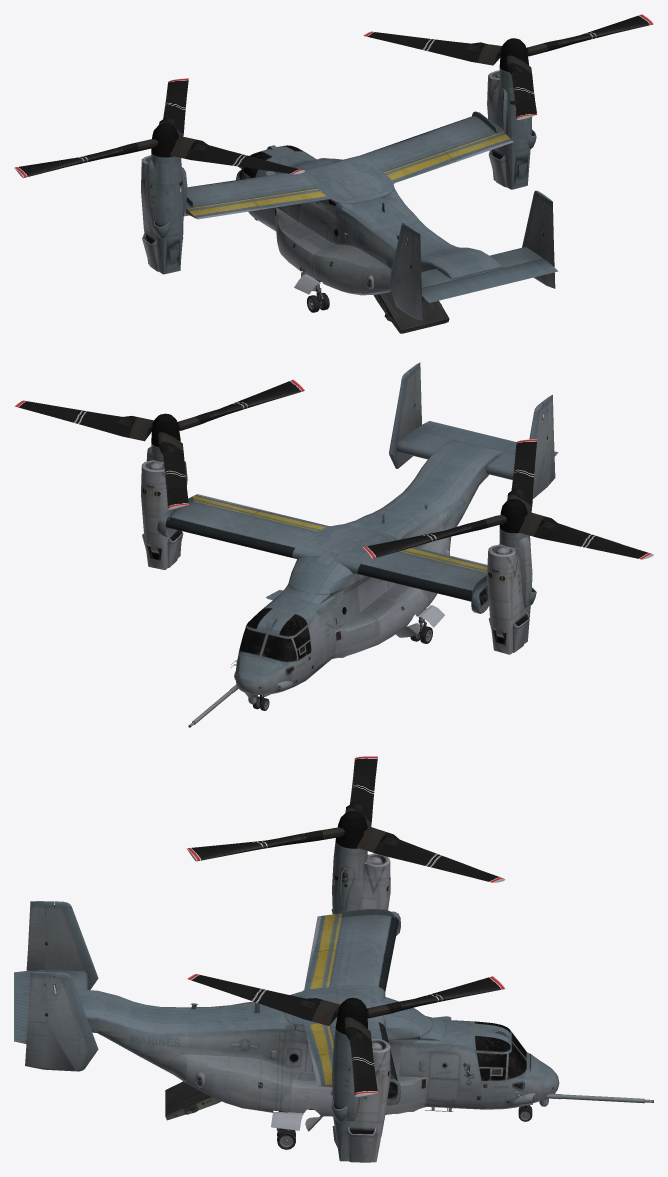
File: v22-osprey-tilt.glb
3 views of the same model, one above another, from view 1: azimuth 30°, elevation 25°; view 2: azimuth 150°, elevation 25°; view 3: azimuth 270°, elevation 25° (orthographic). The views are drawn at different scales.
Visible parts, largest first — view 1: Object_4, rotor_R, rotor_L, nacelle_L, nacelle_R, Object_3; view 2: Object_4, rotor_R, rotor_L, Object_3, nacelle_L, nacelle_R, Object_2; view 3: Object_4, Object_3, rotor_R, rotor_L, nacelle_R, nacelle_L, Object_2.
Part boxes in pixels (x1,y1,x2,y2): Object_4: (183,111,558,333); rotor_R: (363,14,653,119); rotor_L: (14,78,304,177); nacelle_L: (141,153,187,274); nacelle_R: (487,67,536,189); Object_3: (236,145,389,294); Object_4: (157,362,558,727); rotor_R: (14,379,304,509); rotor_L: (363,439,653,559); Object_3: (230,590,433,694); nacelle_L: (487,527,536,654); nacelle_R: (141,443,187,569); Object_2: (239,607,346,674); Object_4: (14,901,653,1149); Object_3: (107,1016,559,1130); rotor_R: (187,974,505,1096); rotor_L: (186,756,505,882); nacelle_R: (331,1028,390,1162); nacelle_L: (331,841,390,914); Object_2: (289,1021,526,1089).
Bounding box in the file's own units: 964 × 284 × 772.
3 materials, 3 textured.
